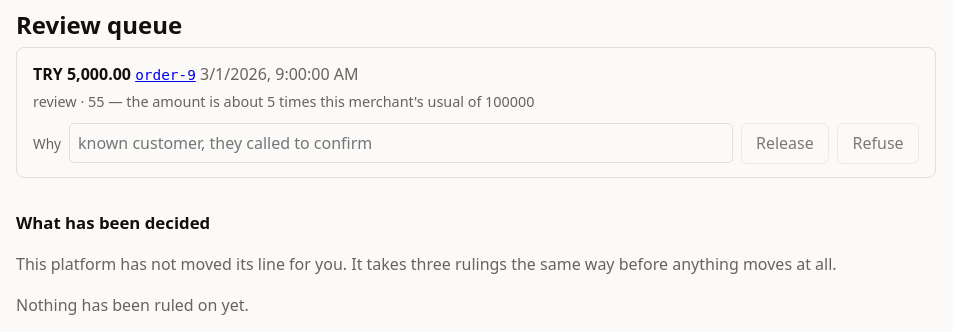
Test: the review queue › will not rule without a reason
Check: the text "TRY 5,000.00" is shown, box [33,63,131,85]
Check: the button "Release" is disabled, box [741,122,829,164]
Type "known customer" into the field labelled "Why". click: (401, 143)
box: [69,123,733,163]
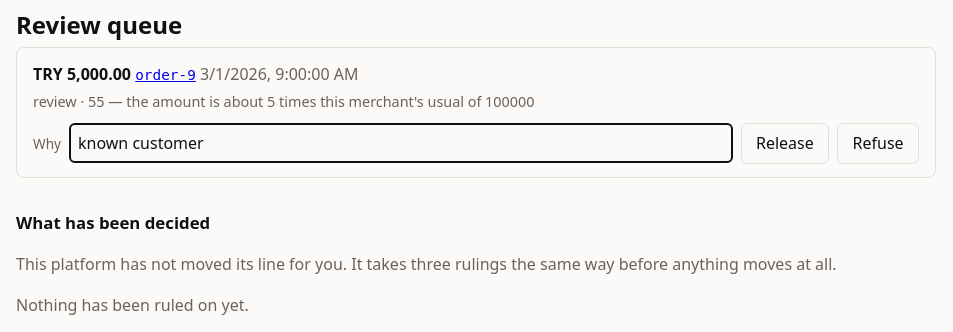
Check: the button "Release" is enabled, box [741,122,829,164]
